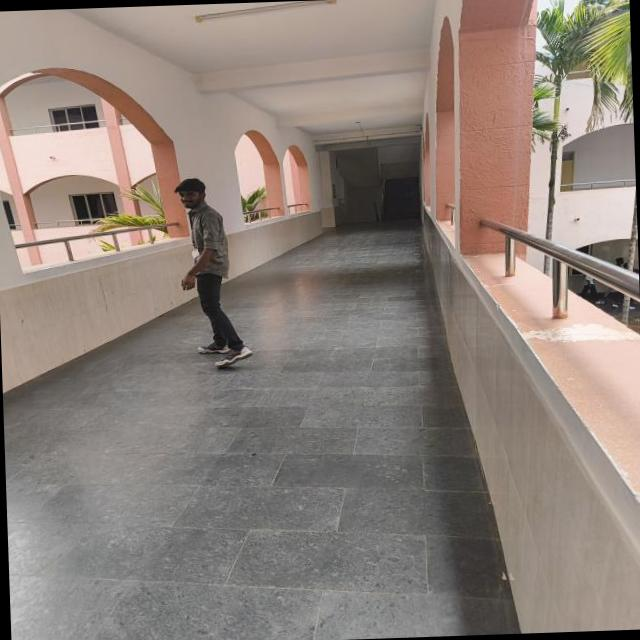id_card: (189, 212, 198, 260)
